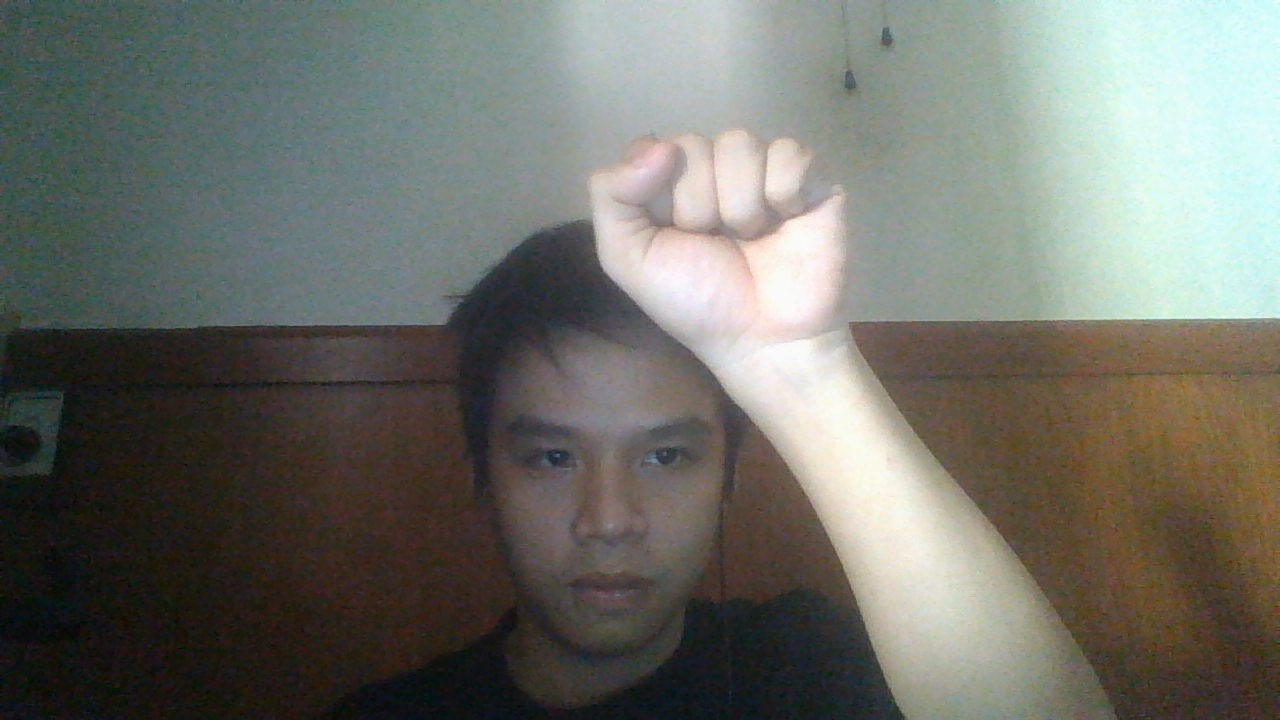stop: (583, 127, 857, 354)
